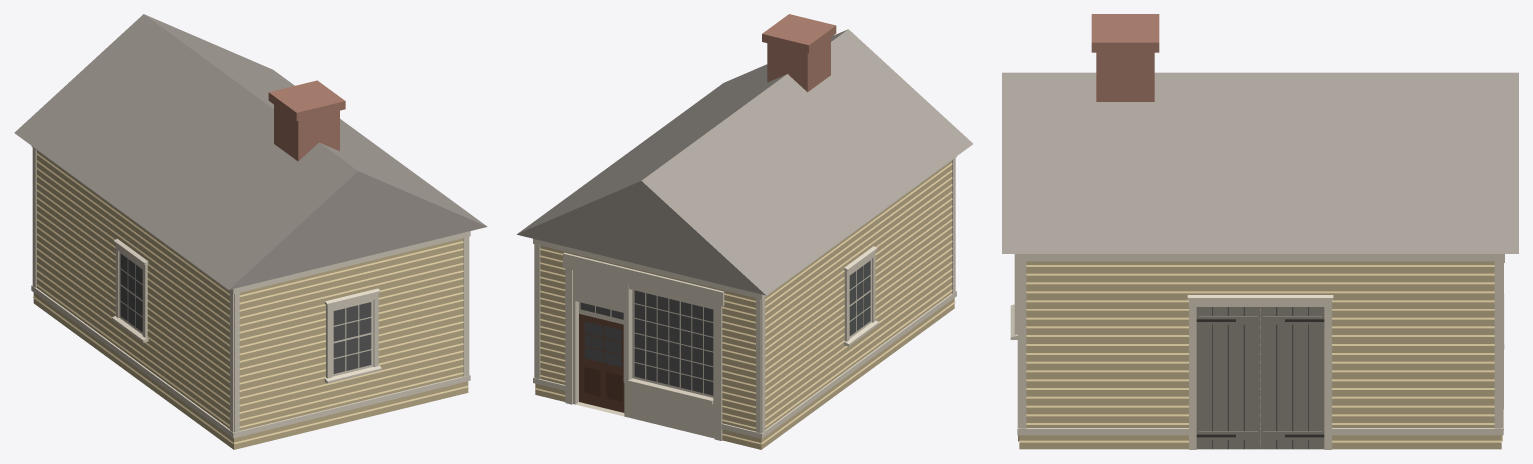
Rendered from recon_1835_core_c1_052__inferred_1835.glb.
3 views of the same model, side by side, from view 1: azimuth 30°, elevation 25°; view 2: azimuth 150°, elevation 25°; view 3: azimuth 270°, elevation 25° (orthographic). The views are drawn at different scales.
Parts seen in each view (by area): view 1: recon_1835_core_c1_052__inferred_1835; view 2: recon_1835_core_c1_052__inferred_1835; view 3: recon_1835_core_c1_052__inferred_1835.
Boxes of the visible parts, left/top/right/bottom form: recon_1835_core_c1_052__inferred_1835: left=14, top=14, right=487, bottom=449; recon_1835_core_c1_052__inferred_1835: left=517, top=14, right=972, bottom=449; recon_1835_core_c1_052__inferred_1835: left=1002, top=14, right=1518, bottom=449.
Size of the model in its own units: 5.21 by 5.62 by 7.47.
